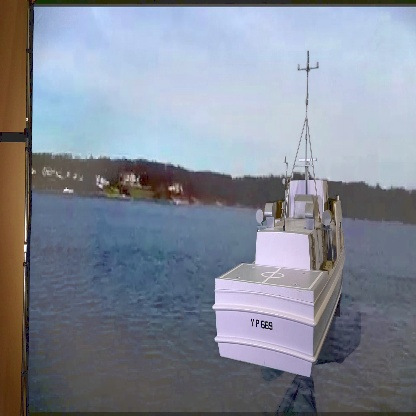YP689: (212, 49, 348, 377)
